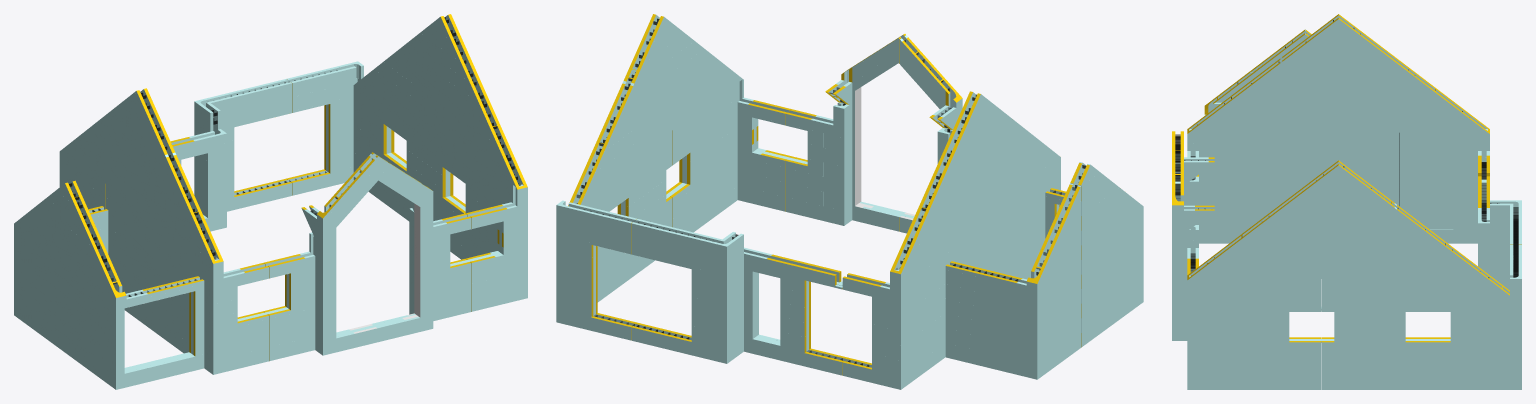
File: Bharat_2_No._Dormer_Bungalows.glb
3 renders of one model, left to right at view 1: azimuth 30°, elevation 25°; view 2: azimuth 150°, elevation 25°; view 3: azimuth 270°, elevation 25°, orthographic. The views are drawn at different scales.
Visible parts, largest first — view 1: Geom3D (×81), Geom3D_EC_W1_W1_TLSID462818, 3DGeom-5667; view 2: Geom3D (×95), Geom3D_EC_W1_W1_TLSID462818, 3DGeom-5667; view 3: Geom3D (×111).
Part boxes in pixels (<box>): Geom3D (×81): <box>25,25,527,389</box>; Geom3D_EC_W1_W1_TLSID462818: <box>349,203,420,333</box>; 3DGeom-5667: <box>141,17,500,255</box>; Geom3D (×95): <box>556,26,1131,384</box>; Geom3D_EC_W1_W1_TLSID462818: <box>855,87,914,220</box>; 3DGeom-5667: <box>581,18,976,226</box>; Geom3D (×111): <box>1172,21,1521,389</box>.
Bounding box in the file's own units: 13.7 × 7.41 × 10.45.
